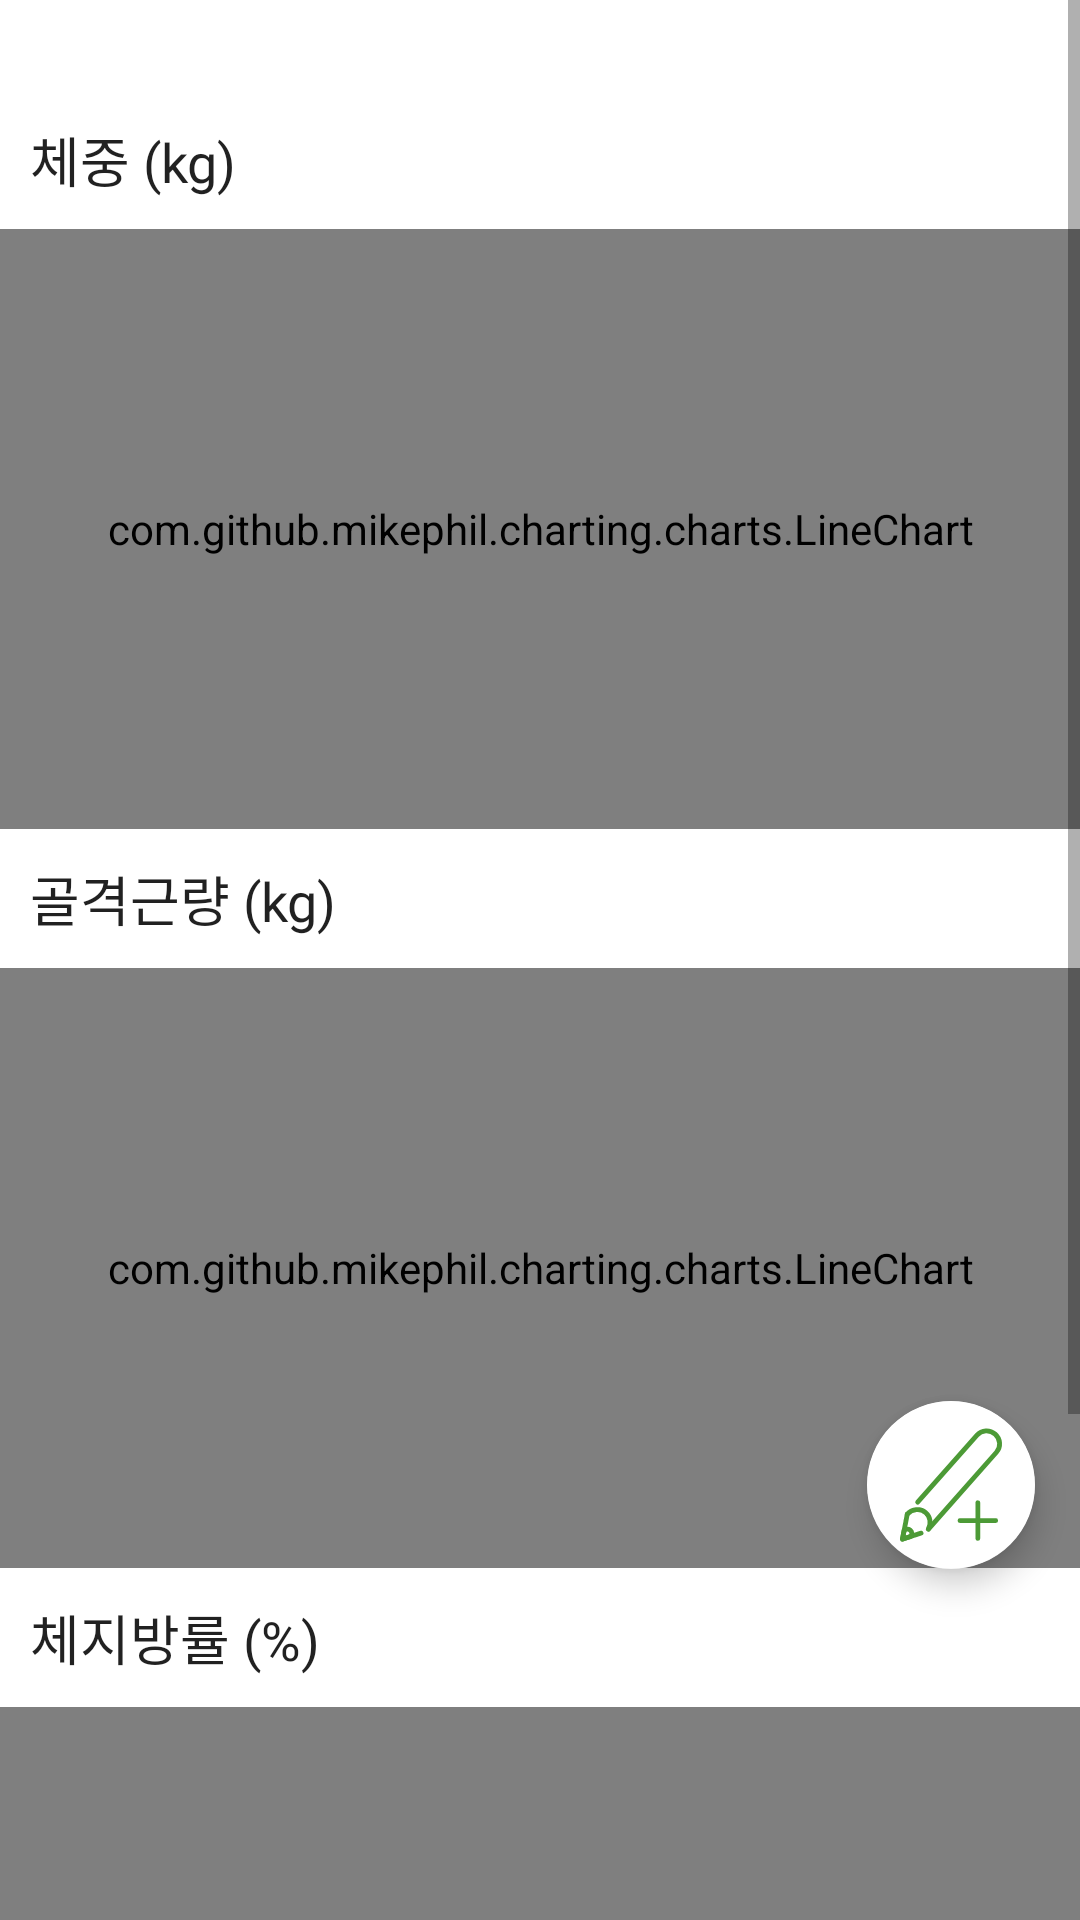

Where icons sit on this 1080 x 1920 app screen, as [x1, y1, x2, y2]:
추가하기: [867, 1401, 1035, 1569]
